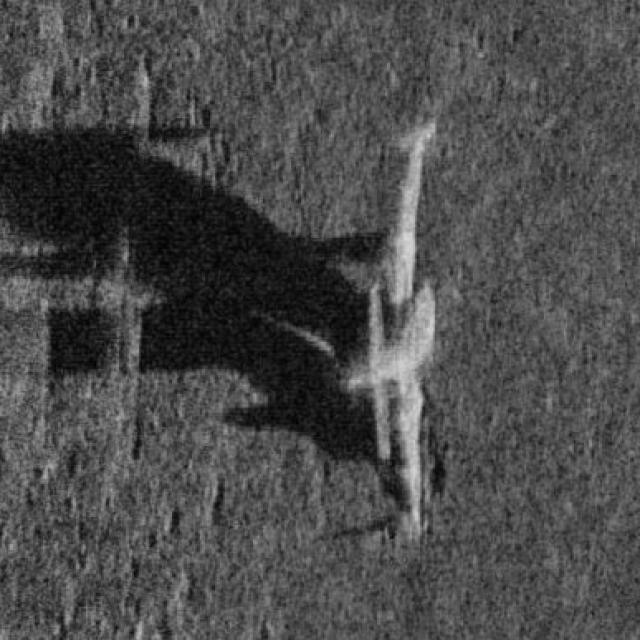plane: (235, 93, 532, 558)
